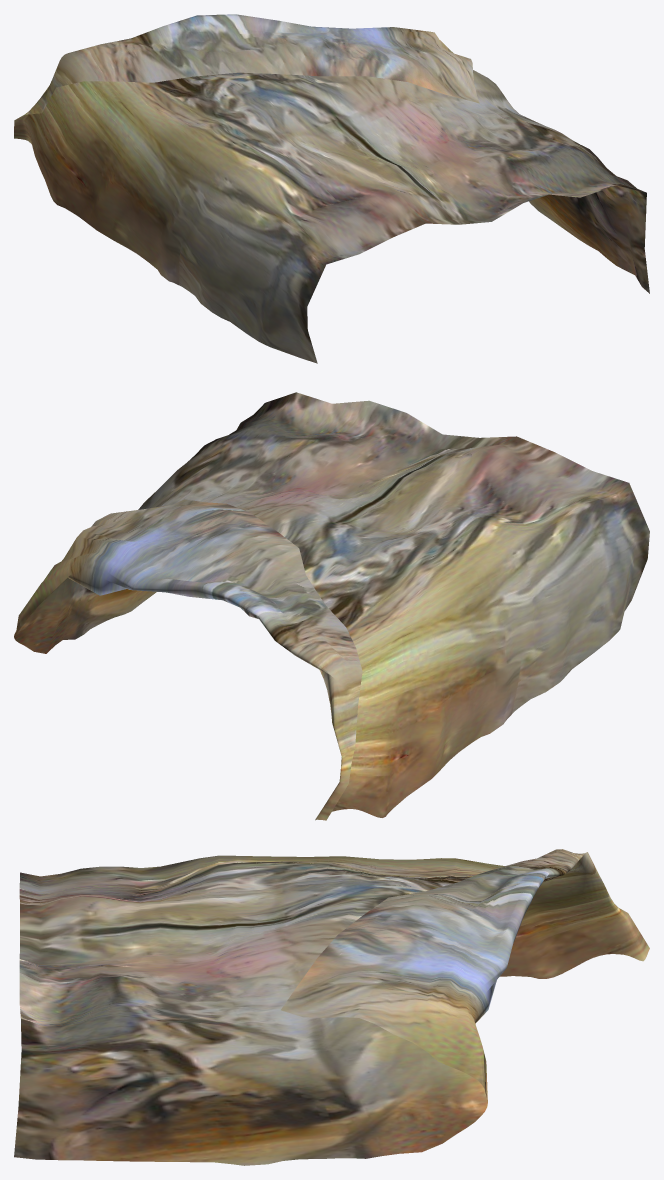
The model's file is tekk.fbx.
3 views of the same model, one above another, from view 1: azimuth 30°, elevation 25°; view 2: azimuth 150°, elevation 25°; view 3: azimuth 270°, elevation 25° (orthographic). The views are drawn at different scales.
Visible parts, largest first — view 1: tekk; view 2: tekk; view 3: tekk.
Part boxes in pixels (x1,y1,x2,y2): tekk: (14, 14, 649, 363); tekk: (14, 392, 649, 820); tekk: (14, 849, 649, 1165).
Bounding box in the file's own units: 1413 × 584 × 1958.
